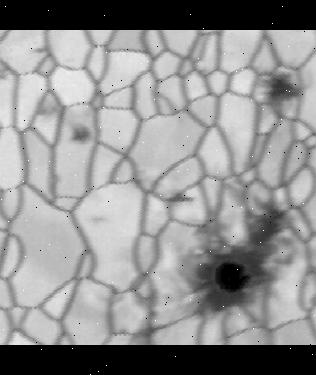good_void: (182, 200, 295, 327), (250, 63, 311, 114), (63, 116, 100, 158), (159, 185, 196, 210), (83, 198, 111, 231), (24, 35, 52, 61), (36, 102, 58, 125), (0, 60, 15, 86)
